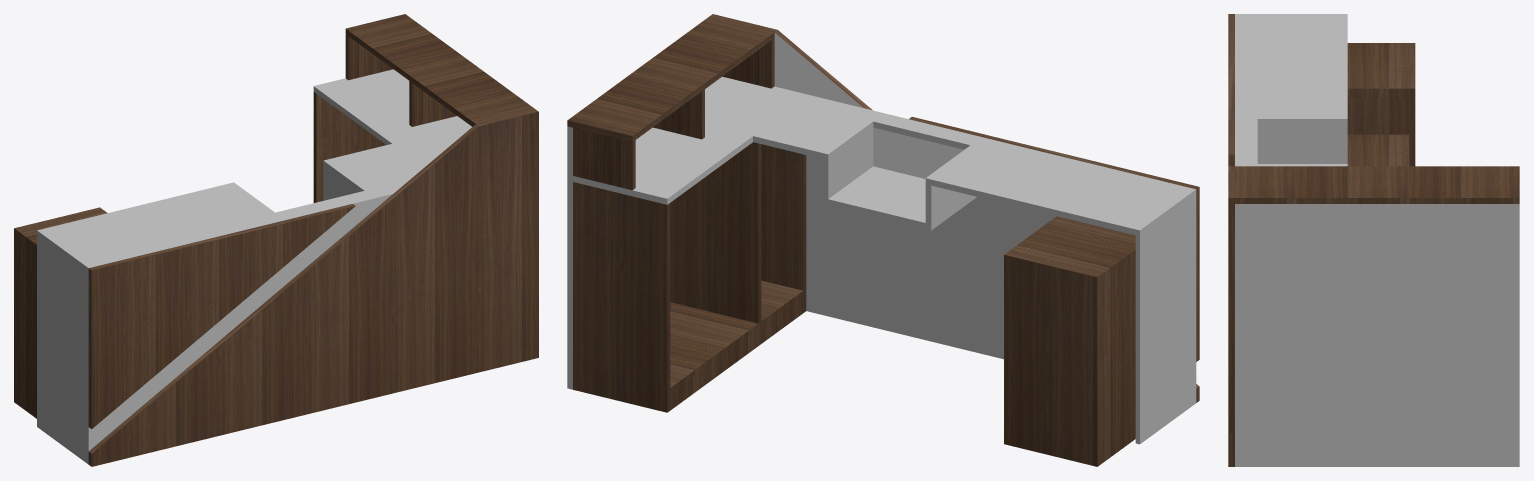
Rendered from Reception.fbx.
3 renders of one model, left to right at view 1: azimuth 30°, elevation 25°; view 2: azimuth 150°, elevation 25°; view 3: azimuth 270°, elevation 25°, orthographic. The views are drawn at different scales.
Visible parts, largest first — view 1: Group2, Group1, Group7, Group9, Group10, fff1, Group12, Group13, Group8; view 2: Group1, fff1, Group10, Group12, Group5, Group7, Group9, Group2, Group3, Group6, Group13, Group11 (+2 smaller); view 3: Group2, Group1, Group9, fff1.
Part boxes in pixels (x1,y1,x2,y2): Group2: (88,109,538,466); Group1: (37,69,471,273); Group7: (37,236,92,464); Group9: (345,14,535,126); Group10: (92,201,383,447); fff1: (14,207,107,418); Group12: (313,92,385,202); Group13: (345,34,392,80); Group8: (409,81,456,126); Group1: (573,76,1196,236); fff1: (1004,216,1135,466); Group10: (806,155,1056,359); Group12: (573,182,670,412); Group5: (670,142,761,323); Group7: (1135,195,1196,444); Group9: (567,16,774,142); Group2: (567,14,1199,402); Group3: (761,144,806,312); Group6: (670,280,803,391); Group13: (573,128,635,190); Group11: (670,295,803,410); Group2: (1228,14,1519,466); Group1: (1235,14,1347,166); Group9: (1235,166,1519,203); fff1: (1347,43,1415,166).
Size of the model in its own units: 2.5 by 1.32 by 1.29.
